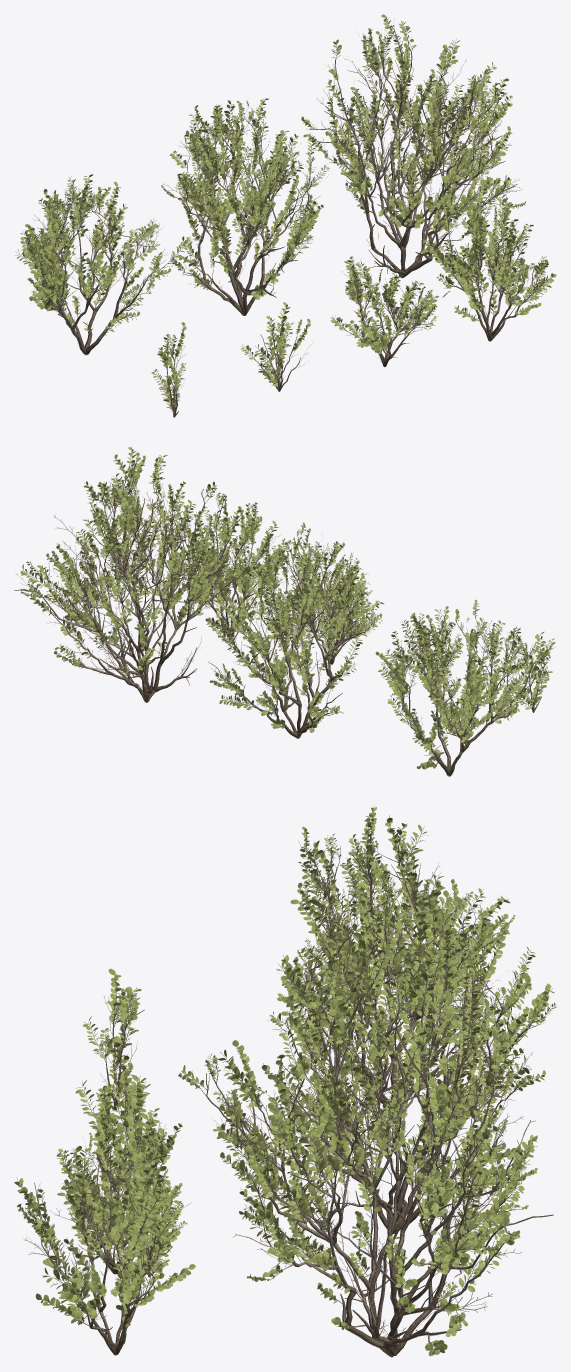
The model's file is shrub_01.glb.
3 views of the same model, one above another, from view 1: azimuth 30°, elevation 25°; view 2: azimuth 150°, elevation 25°; view 3: azimuth 270°, elevation 25° (orthographic). The views are drawn at different scales.
Parts seen in each view (by area): view 1: searsia_lucida_a_LOD0; view 2: searsia_lucida_a_LOD0; view 3: searsia_lucida_a_LOD0.
Boxes of the visible parts, <box> form: searsia_lucida_a_LOD0: <box>15,14,556,417</box>; searsia_lucida_a_LOD0: <box>14,446,555,776</box>; searsia_lucida_a_LOD0: <box>14,807,556,1357</box>.
Size of the model in its own units: 4.78 by 2.34 by 2.84.
2 materials, 2 textured.
